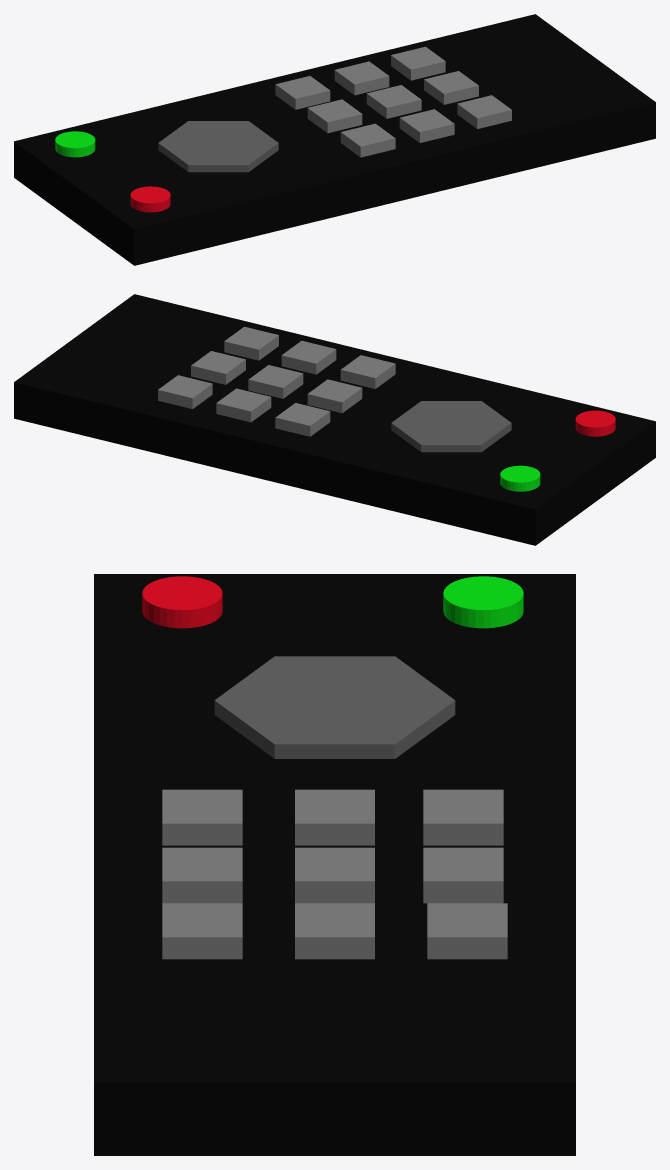
The model's file is remote.glb.
3 views of the same model, one above another, from view 1: azimuth 30°, elevation 25°; view 2: azimuth 150°, elevation 25°; view 3: azimuth 270°, elevation 25° (orthographic). The views are drawn at different scales.
Parts seen in each view (by area): view 1: Cube, Cylinder.002, Cube.001, Cube.005, Cube.003, Cube.007, Cube.004, Cube.006, Cube.008, Cube.002, Cube.009, Cylinder (+1 smaller); view 2: Cube, Cylinder.002, Cube.005, Cube.001, Cube.003, Cube.007, Cube.004, Cube.006, Cube.002, Cube.008, Cube.009, Cylinder.001 (+1 smaller); view 3: Cube, Cylinder.002, Cube.001, Cube.002, Cube.003, Cube.004, Cube.005, Cube.008, Cube.006, Cube.007, Cube.009, Cylinder (+1 smaller).
Part boxes in pixels (bbox=[...]): Cube: bbox=[14, 14, 655, 265]; Cylinder.002: bbox=[158, 121, 278, 172]; Cube.001: bbox=[340, 123, 395, 157]; Cube.005: bbox=[334, 61, 389, 95]; Cube.003: bbox=[399, 109, 454, 142]; Cube.007: bbox=[366, 85, 421, 118]; Cube.004: bbox=[275, 76, 330, 109]; Cube.006: bbox=[307, 99, 362, 133]; Cube.008: bbox=[391, 46, 445, 80]; Cube.002: bbox=[457, 95, 511, 128]; Cube.009: bbox=[424, 71, 478, 104]; Cylinder: bbox=[55, 131, 95, 157]; Cube: bbox=[14, 294, 655, 545]; Cylinder.002: bbox=[391, 401, 511, 452]; Cube.005: bbox=[216, 388, 271, 422]; Cube.001: bbox=[340, 355, 395, 388]; Cube.003: bbox=[281, 340, 336, 374]; Cube.007: bbox=[248, 365, 303, 398]; Cube.004: bbox=[275, 403, 330, 436]; Cube.006: bbox=[307, 379, 362, 413]; Cube.002: bbox=[224, 326, 278, 360]; Cube.008: bbox=[158, 375, 212, 408]; Cube.009: bbox=[191, 351, 245, 384]; Cylinder.001: bbox=[575, 410, 615, 436]; Cube: bbox=[94, 574, 575, 1155]; Cylinder.002: bbox=[214, 656, 455, 758]; Cube.001: bbox=[162, 789, 242, 845]; Cube.002: bbox=[162, 903, 242, 959]; Cube.003: bbox=[162, 847, 242, 903]; Cube.004: bbox=[423, 789, 503, 845]; Cube.005: bbox=[423, 847, 503, 903]; Cube.008: bbox=[427, 903, 507, 959]; Cube.006: bbox=[295, 789, 374, 845]; Cube.007: bbox=[295, 847, 374, 903]; Cube.009: bbox=[295, 903, 374, 959]; Cylinder: bbox=[443, 576, 523, 628].
Size of the model in its own units: 3 by 0.26 by 1.2.
